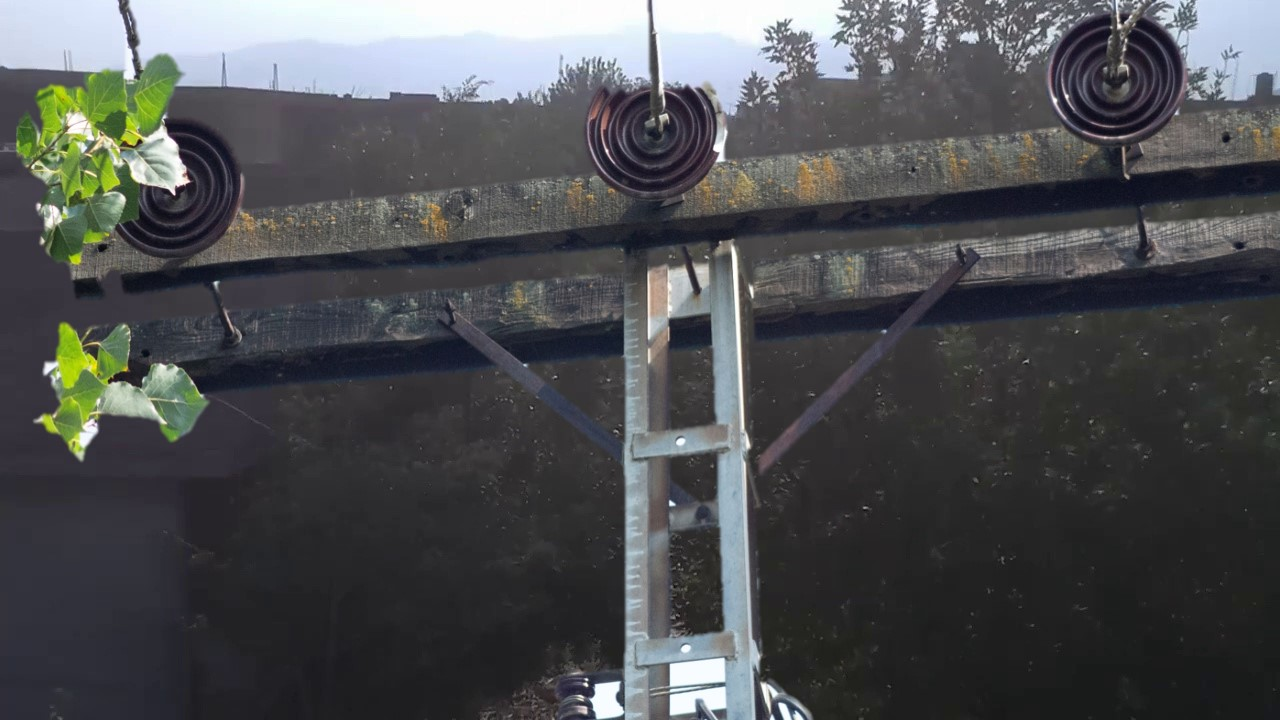defect_disc: (578, 78, 737, 204)
insulator_disc: (1042, 17, 1189, 146), (154, 111, 248, 254)
